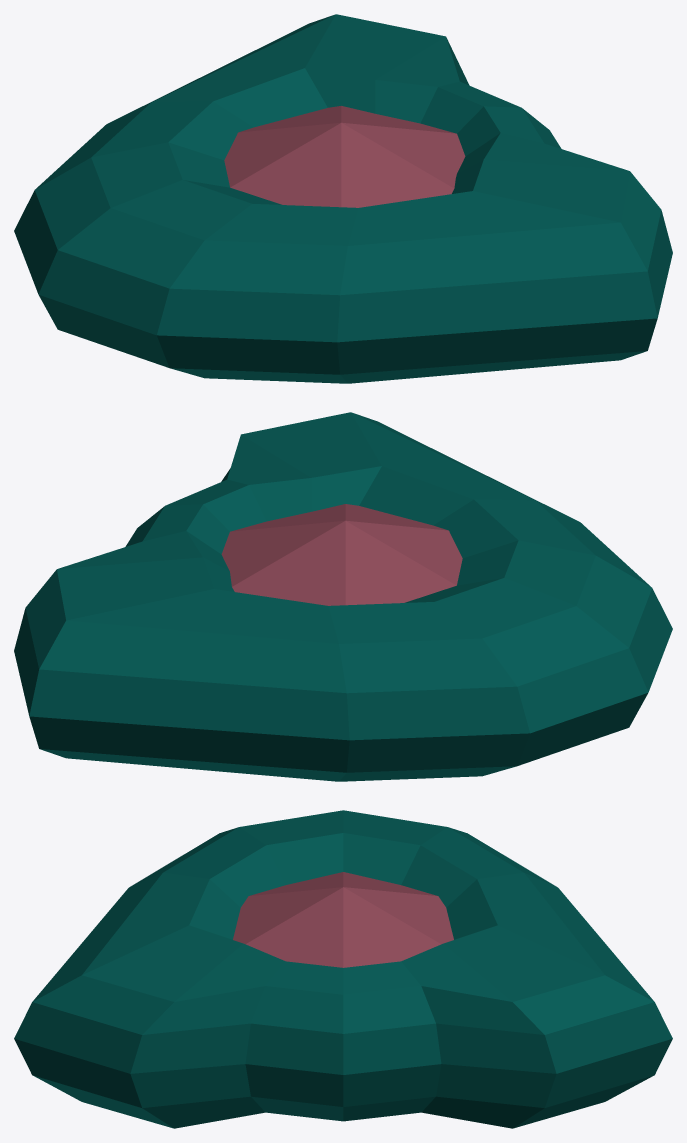
The model's file is SM_CoeurDeGolem.fbx.
The picture shows the model from 3 angles, top to bottom: view 1: azimuth 30°, elevation 25°; view 2: azimuth 150°, elevation 25°; view 3: azimuth 270°, elevation 25°; orthographic projection. The views are drawn at different scales.
Parts seen in each view (by area): view 1: Golem; view 2: Golem; view 3: Golem.
Boxes of the visible parts, x1,y1,x2,y2 form: Golem: (14,14,672,383); Golem: (14,412,672,781); Golem: (14,810,672,1128).
Bounding box in the file's own units: 5.21 × 1.87 × 6.2.
